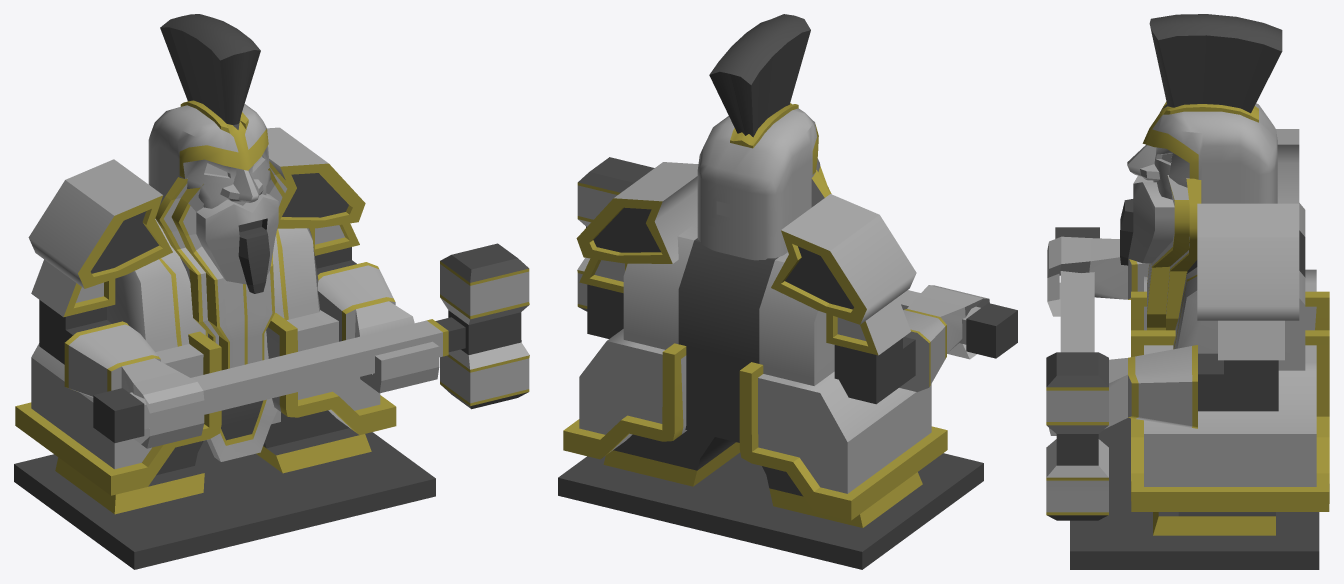
Rendered from statue_mat.fbx.
The picture shows the model from 3 angles, left to right: view 1: azimuth 30°, elevation 25°; view 2: azimuth 150°, elevation 25°; view 3: azimuth 270°, elevation 25°; orthographic projection. The views are drawn at different scales.
Visible parts, largest first — view 1: pCube12; view 2: pCube12; view 3: pCube12.
Boxes of the visible parts, left/top/right/bottom form: pCube12: left=14, top=14, right=529, bottom=569; pCube12: left=558, top=14, right=1017, bottom=569; pCube12: left=1046, top=14, right=1329, bottom=569.
Bounding box in the file's own units: 1.2 × 1.28 × 0.6922.
